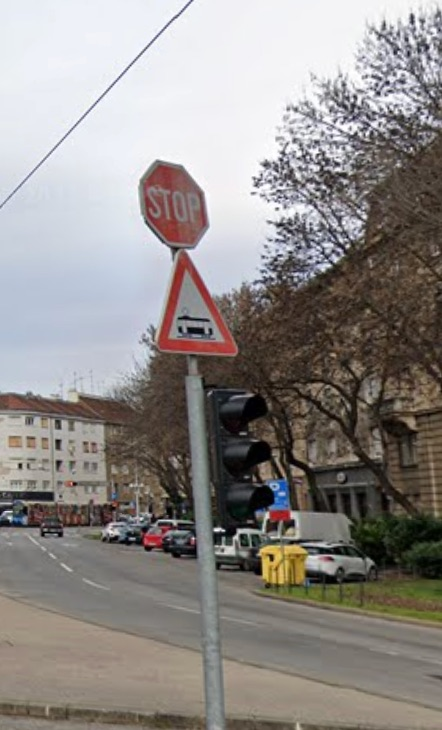Obavezno zaustavljanje: (138, 159, 210, 249)
